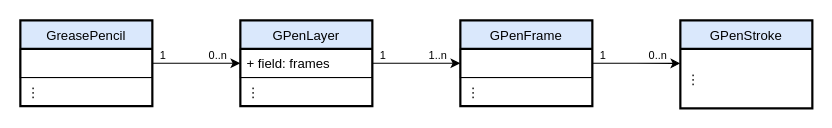
This 832x128 diagram has some shape labels left out. The shapes that lost their labels are listed below. From the top down, each one's centre as x and y in pixels, then its label:
(x=85, y=63): + field: layers
(x=525, y=63): + field: strokes
